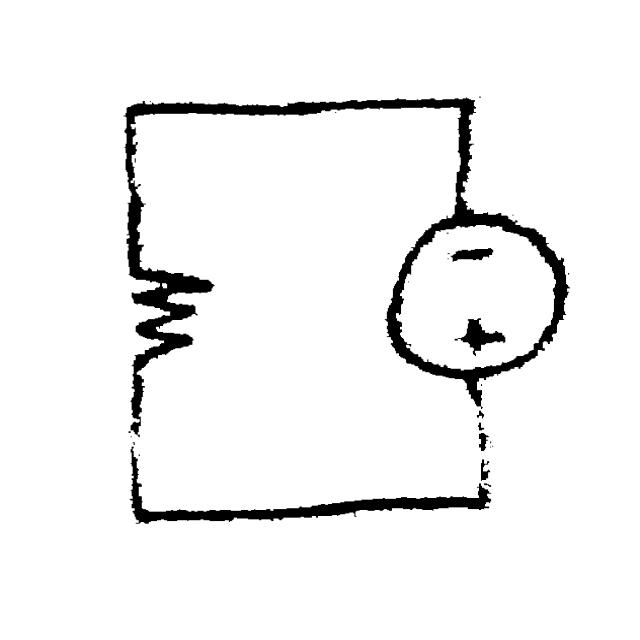dc: (373, 208, 577, 386)
resistor: (105, 241, 222, 379)
